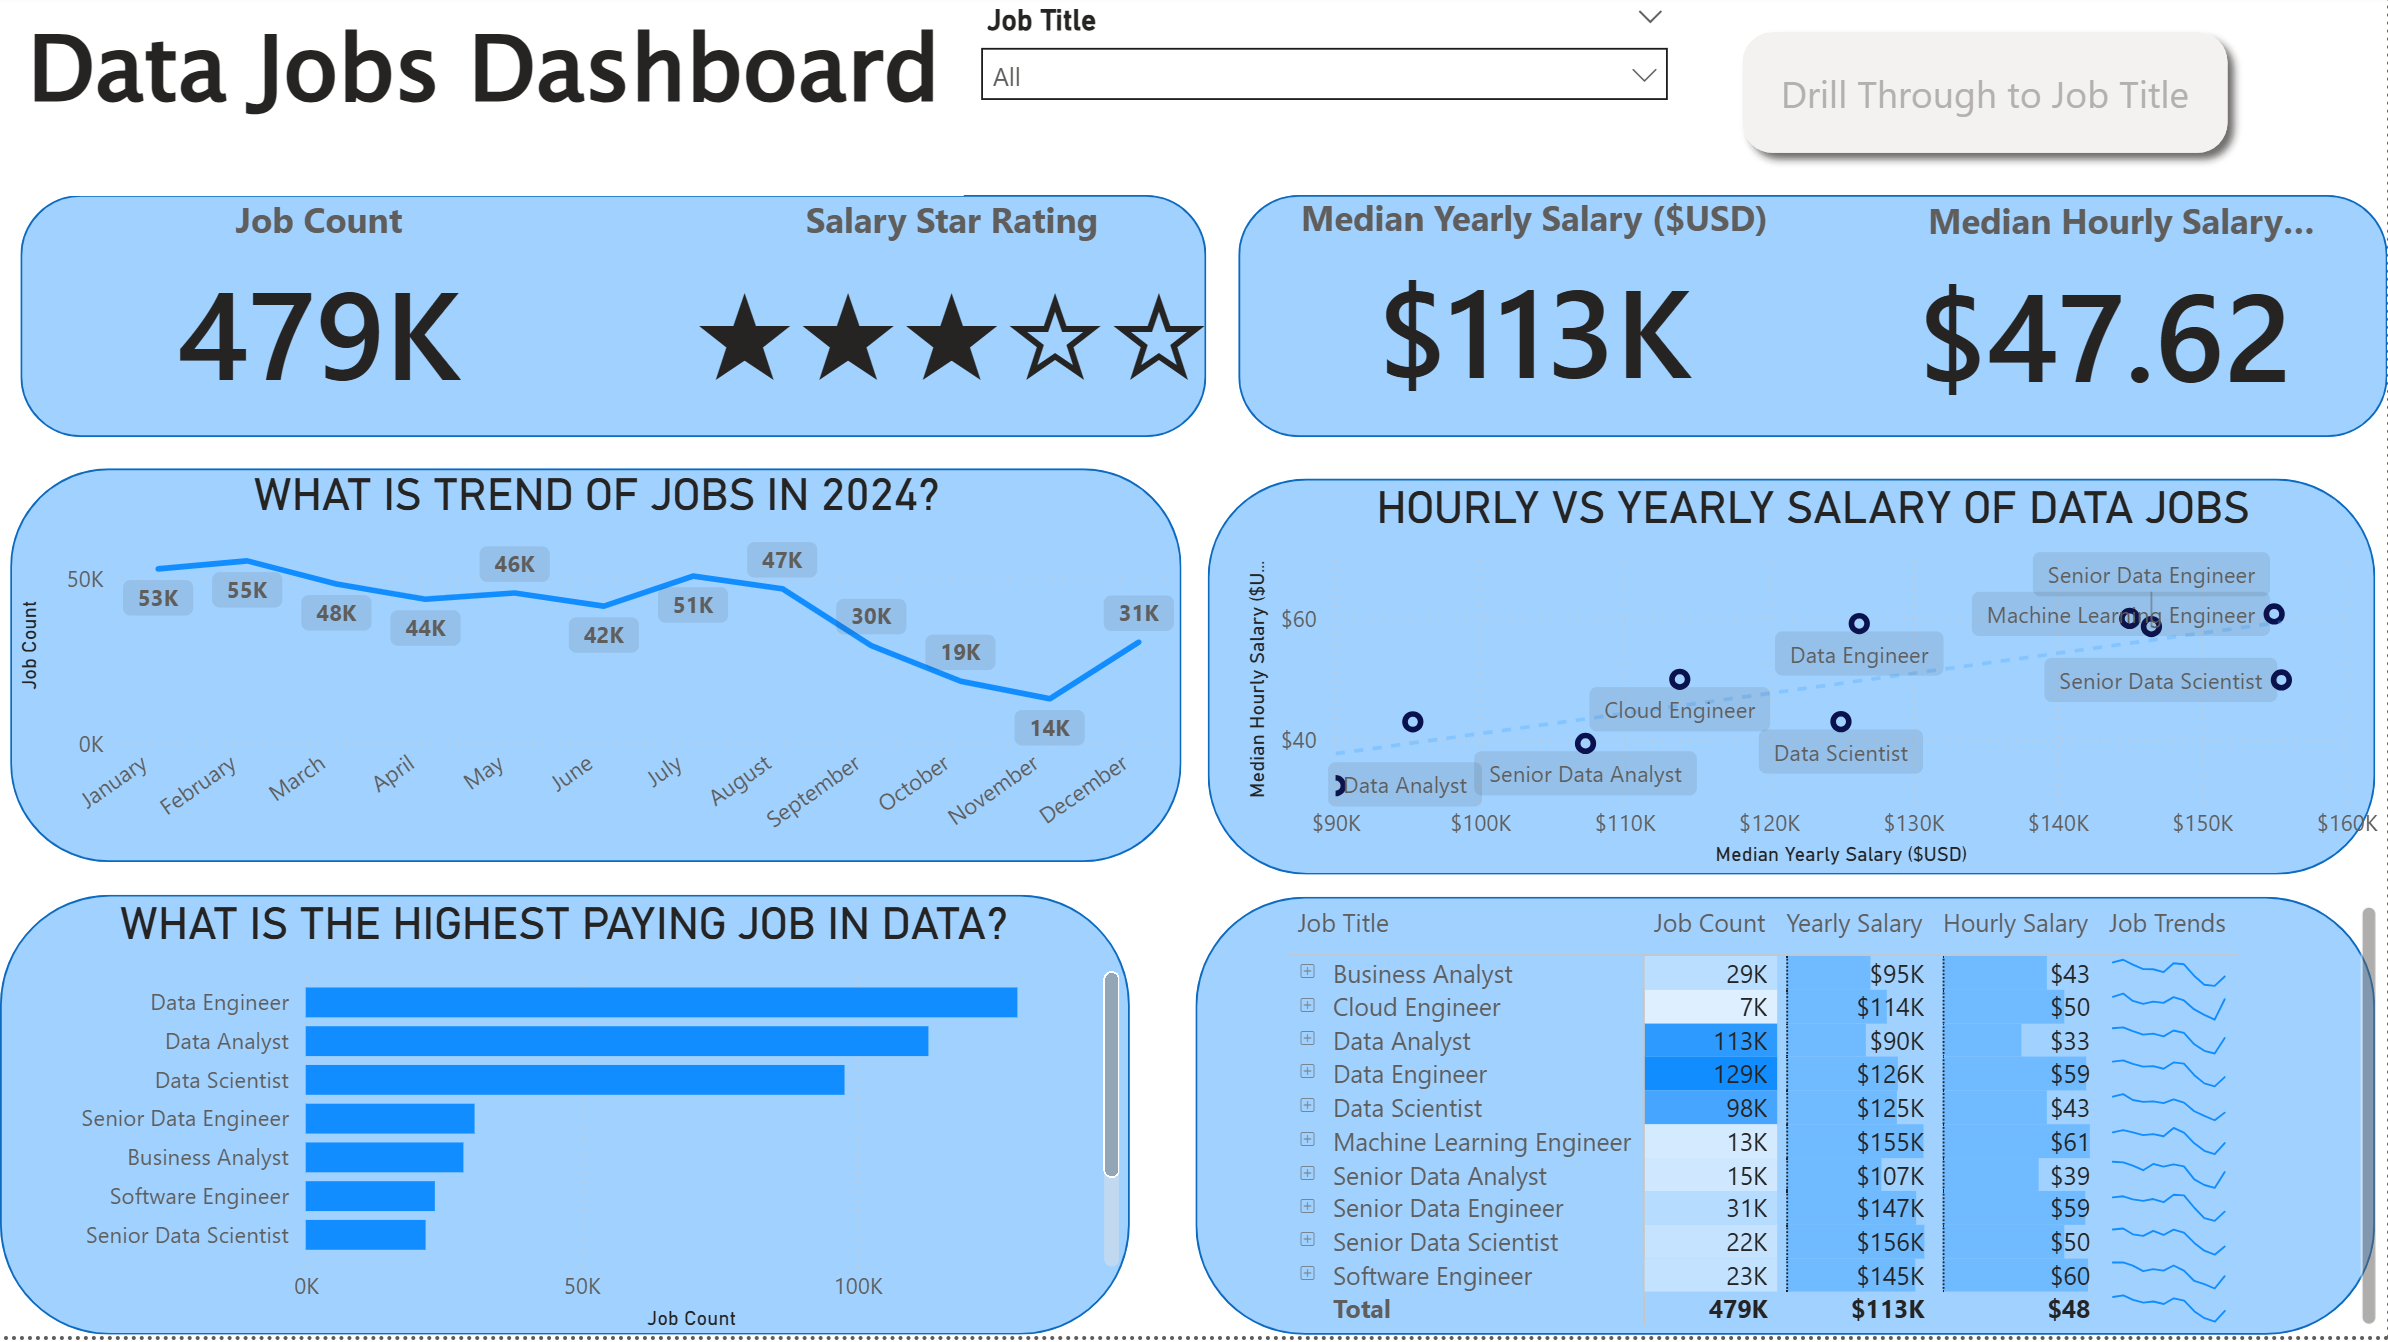

This screenshot's page, from the dashboard's own definition file:
{"tool":"powerbi","page":{"name":"Data Jobs Dashboard","canvas":[1280,720],"ordinal":0},"visuals":[{"type":"shape","box":[10.5,108.8,635.8,129.8],"z":0},{"type":"textbox","box":[9.9,0,507,108.7],"z":1000},{"type":"slicer","fields":{"Values":["job_postings_flat.job_title_short"]},"box":[516.5,0,388.1,73.4],"z":2000},{"type":"shape","box":[663.4,108.8,616.2,129.8],"z":3000},{"type":"cardVisual","fields":{"Data":["Median(job_postings_flat.salary_year_avg)"]},"box":[666.7,83,311.5,165.9],"z":4000},{"type":"shape","box":[5.2,254.3,628,211.1],"z":5000},{"type":"cardVisual","fields":{"Data":["Median(job_postings_flat.salary_hour_avg)"]},"box":[977.5,84.9,302.1,164.8],"z":6000},{"type":"shape","box":[646.9,260.4,626,212.4],"z":7000},{"type":"cardVisual","fields":{"Data":["CountNonNull(job_postings_flat.job_title_short)"]},"box":[0,83,342.1,167.4],"z":8000},{"type":"shape","box":[0,483.8,605.7,236],"z":9000},{"type":"cardVisual","fields":{"Data":["job_postings_flat.Salary Star Rating"]},"box":[342.1,83,336.3,167.4],"z":10000},{"type":"lineChart","title":"WHAT IS TREND OF JOBS IN 2024?","fields":{"Y":["CountNonNull(job_postings_flat.job_title_short)"],"Category":["job_postings_flat.job_posted_date.Variation.Date Hierarchy.Year","job_postings_flat.job_posted_date.Variation.Date Hierarchy.Quarter","job_postings_flat.job_posted_date.Variation.Date Hierarchy.Month","job_postings_flat.job_posted_date.Variation.Date Hierarchy.Day"]},"box":[5.2,254.3,629.3,211.1],"z":11000},{"type":"barChart","title":"WHAT IS THE HIGHEST PAYING JOB IN DATA?","fields":{"Category":["job_postings_flat.job_title_short"],"Y":["CountNonNull(job_postings_flat.job_title_short)"]},"box":[0,484.4,605.1,236.6],"z":12000},{"type":"scatterChart","title":"HOURLY VS YEARLY SALARY OF DATA JOBS","fields":{"X":["Median(job_postings_flat.salary_year_avg)"],"Y":["Median(job_postings_flat.salary_hour_avg)"],"Series":["job_postings_flat.job_title_short"]},"box":[663.4,260.9,616.2,211.1],"z":13000},{"type":"shape","box":[640.5,484.4,632.5,235],"z":14000},{"type":"pivotTable","fields":{"Values":["CountNonNull(job_postings_flat.job_title_short)","Median(job_postings_flat.salary_year_avg)","Median(job_postings_flat.salary_hour_avg)","SparklineData(CountNonNull(job_postings_flat.job_title_short)_[job_postings_flat.job_posted_date.Variation.Date Hierarch"],"Rows":["job_postings_flat.job_title_short","job_postings_flat.job_posted_date.Variation.Date Hierarchy.Quarter"]},"box":[685.6,484.4,593.8,235],"z":15000},{"type":"actionButton","box":[925.6,11.8,277.9,82.6],"z":16000}]}

Visuals, with their boxes in screenshot pixels (x1, y1, x2, y2), scaled from the page's 1280x720 canvas onto the 2388x1342 screenshot:
shape: pyautogui.locateOnScreen(20, 203, 1206, 445)
textbox: pyautogui.locateOnScreen(18, 0, 964, 203)
slicer - job_postings_flat.job_title_short: pyautogui.locateOnScreen(964, 0, 1688, 137)
shape: pyautogui.locateOnScreen(1238, 203, 2387, 445)
cardVisual - Median(job_postings_flat.salary_year_avg): pyautogui.locateOnScreen(1244, 155, 1825, 464)
shape: pyautogui.locateOnScreen(10, 474, 1181, 867)
cardVisual - Median(job_postings_flat.salary_hour_avg): pyautogui.locateOnScreen(1824, 158, 2387, 465)
shape: pyautogui.locateOnScreen(1207, 485, 2375, 881)
cardVisual - CountNonNull(job_postings_flat.job_title_short): pyautogui.locateOnScreen(0, 155, 638, 467)
shape: pyautogui.locateOnScreen(0, 902, 1130, 1341)
cardVisual - job_postings_flat.Salary Star Rating: pyautogui.locateOnScreen(638, 155, 1266, 467)
"WHAT IS TREND OF JOBS IN 2024?" lineChart: pyautogui.locateOnScreen(10, 474, 1184, 867)
"WHAT IS THE HIGHEST PAYING JOB IN DATA?" barChart: pyautogui.locateOnScreen(0, 903, 1129, 1341)
"HOURLY VS YEARLY SALARY OF DATA JOBS" scatterChart: pyautogui.locateOnScreen(1238, 486, 2387, 880)
shape: pyautogui.locateOnScreen(1195, 903, 2375, 1341)
pivotTable - CountNonNull(job_postings_flat.job_title_short) x Median(job_postings_flat.salary_year_avg): pyautogui.locateOnScreen(1279, 903, 2387, 1341)
actionButton: pyautogui.locateOnScreen(1727, 22, 2245, 176)
